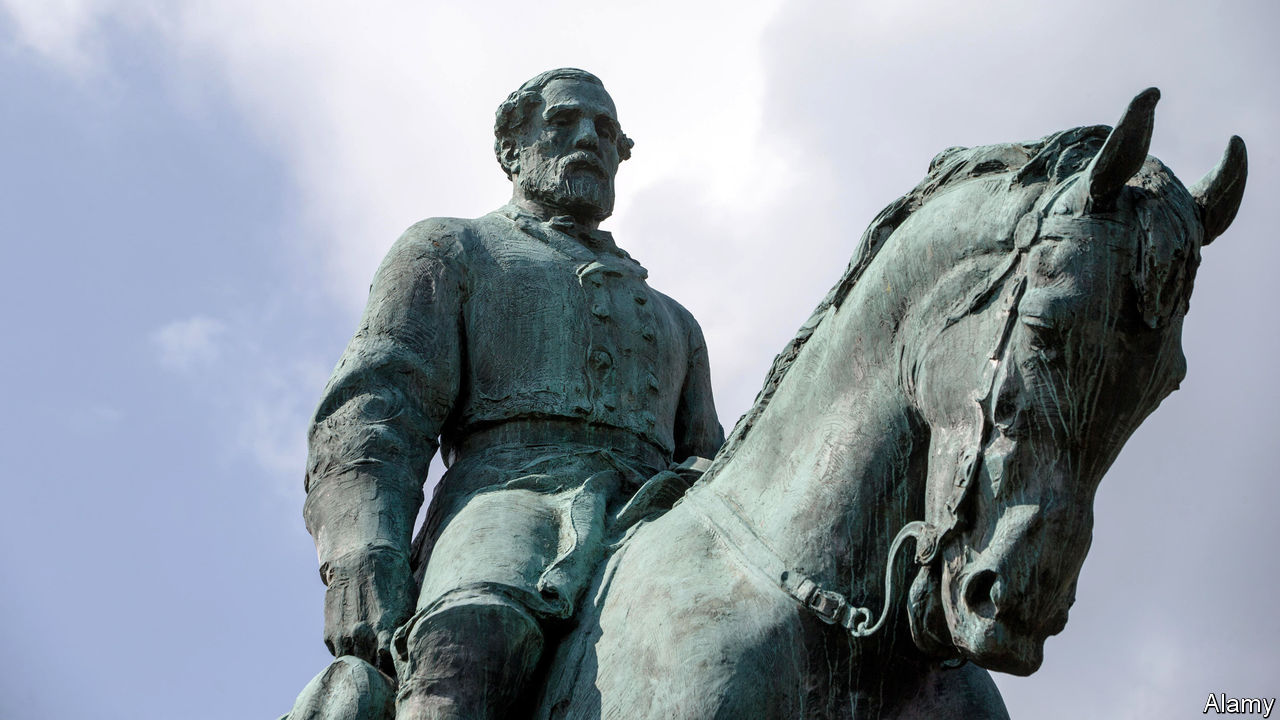person-like: (294, 60, 735, 720)
